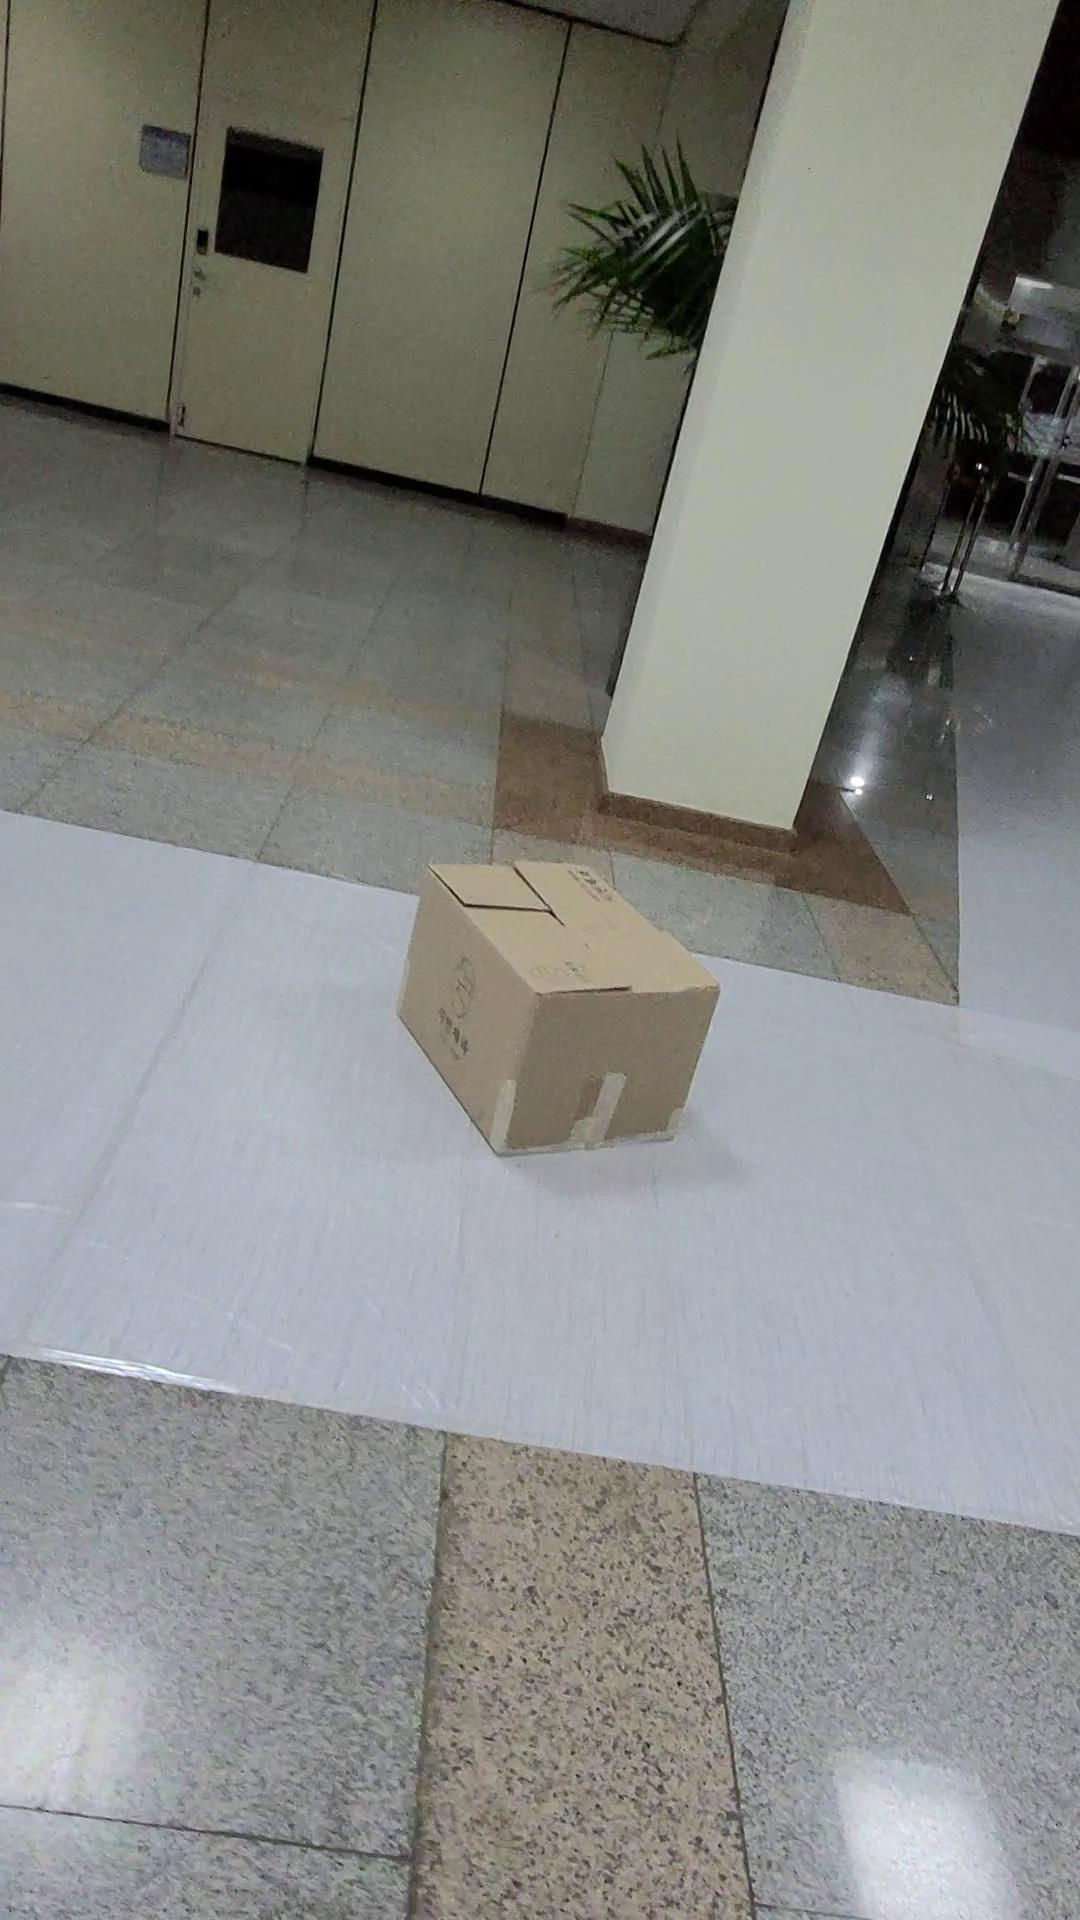Box: (388, 843, 729, 1183)
